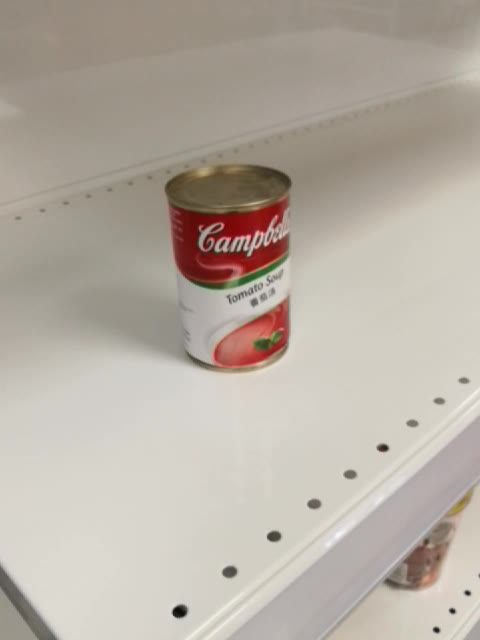tomatosoup: (164, 164, 292, 374)
